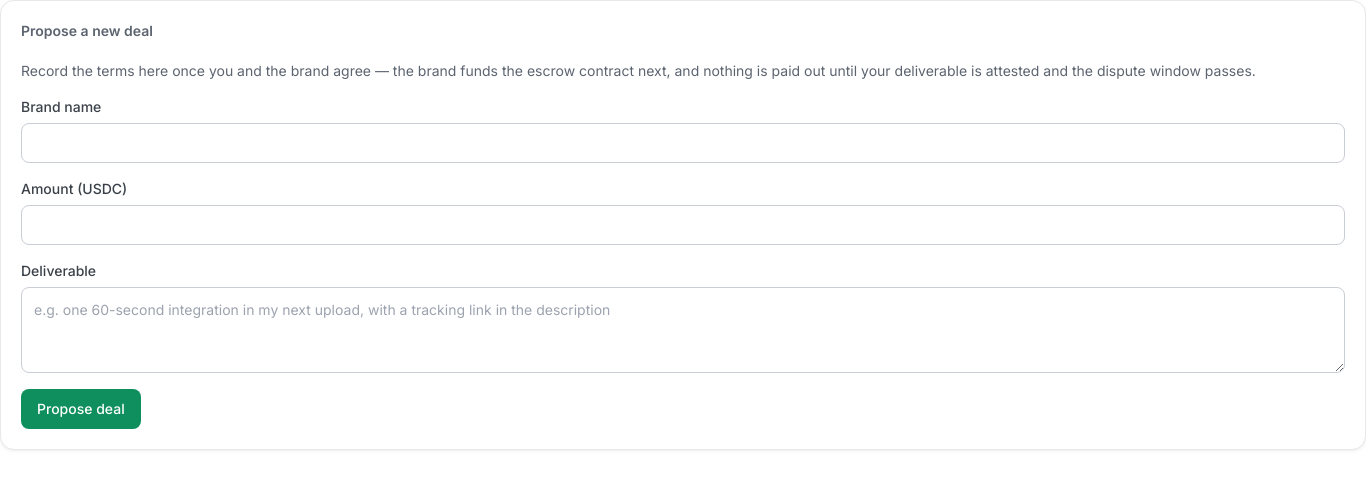
Scenario: SponsorshipDealForm › requires a brand name before submitting
Step 1. Click the button "Propose deal" → [81, 409], box [21,389,141,429]
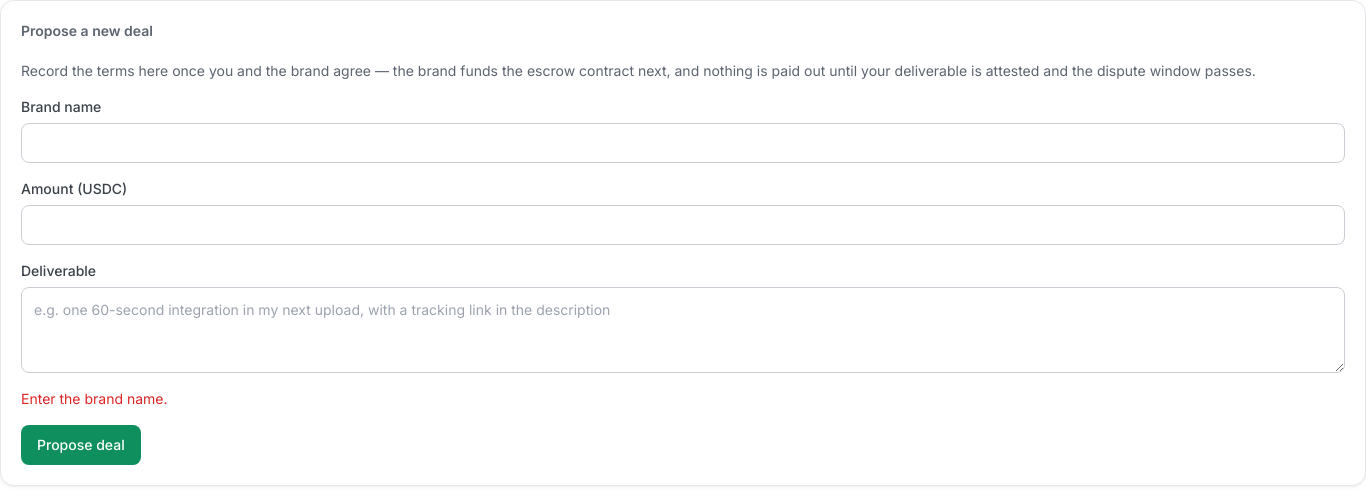
Check: the text "Enter the brand name." is shown, box [21,390,168,407]
